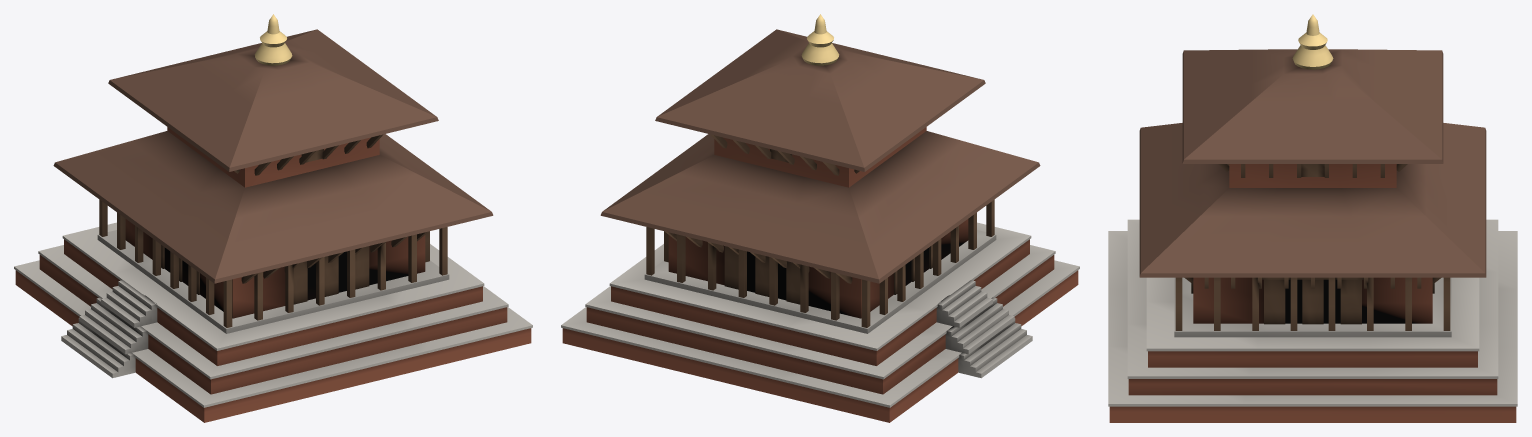
File: jagannath.glb
3 renders of one model, left to right at view 1: azimuth 30°, elevation 25°; view 2: azimuth 150°, elevation 25°; view 3: azimuth 270°, elevation 25°, orthographic. The views are drawn at different scales.
Parts seen in each view (by area): view 1: model-tile, model-brick, model-wood, model-gold; view 2: model-tile, model-brick, model-wood, model-gold; view 3: model-tile, model-brick, model-wood, model-gold.
Boxes of the visible parts, bbox=[...] form: model-tile: bbox=[53, 29, 493, 283]; model-brick: bbox=[14, 127, 532, 422]; model-wood: bbox=[99, 134, 447, 327]; model-gold: bbox=[254, 14, 292, 65]; model-tile: bbox=[600, 29, 1040, 283]; model-brick: bbox=[561, 127, 1079, 422]; model-wood: bbox=[646, 134, 994, 327]; model-gold: bbox=[801, 14, 839, 65]; model-tile: bbox=[1139, 49, 1486, 277]; model-brick: bbox=[1108, 164, 1517, 422]; model-wood: bbox=[1175, 164, 1450, 330]; model-gold: bbox=[1292, 14, 1333, 69].
Bounding box in the file's own units: 18.25 × 14.9 × 17.1.
4 materials, 4 textured.
